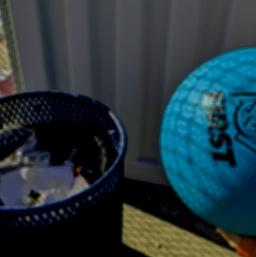algae: (156, 43, 256, 234)
